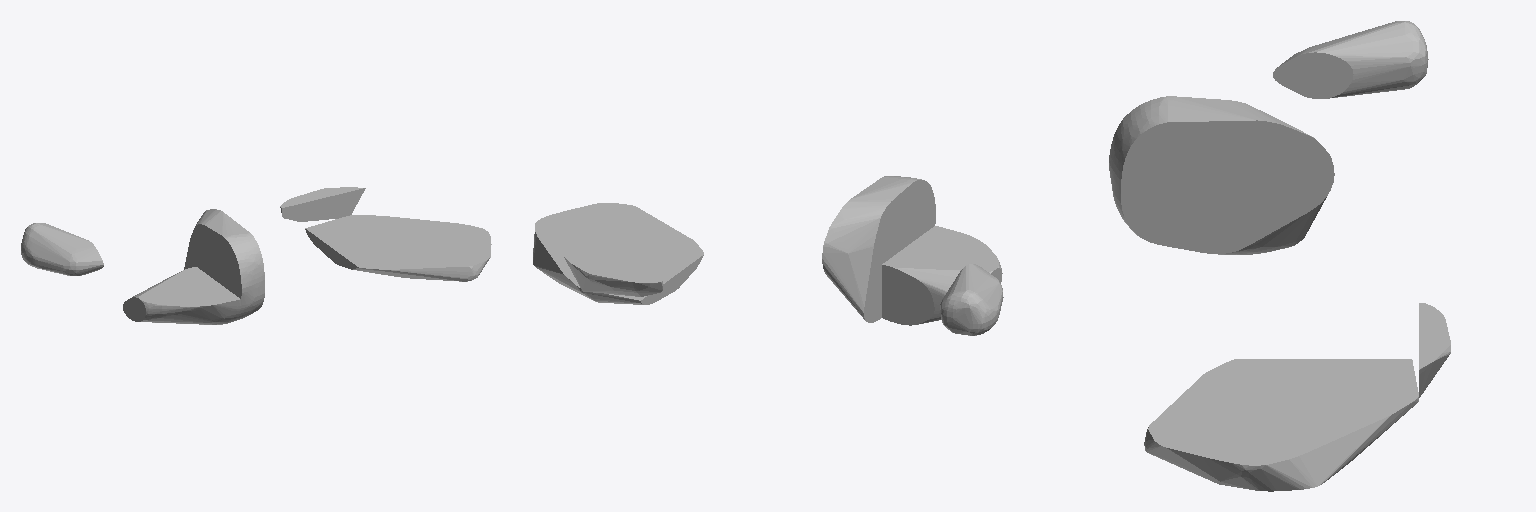
The robot description file, URDF, robot "root":
<robot name="root">
  <link name="link_coacd_convex_piece_0">
    <inertial>
      <origin xyz="0 0 0" rpy="0 0 0"/>
      <inertia ixx="1.71E-09" ixy="-5.69E-10" ixz="-1.56E-10" iyy="9.73E-10" iyz="1.53E-10" izz="8.46E-10"/>
    </inertial>
    <visual>
      <origin xyz="0 0 0" rpy="0 0 0"/>
      <geometry>
        <mesh filename="coacd_convex_piece_0.obj" scale="1.0000E+00 1.0000E+00 1.0000E+00"/>
      </geometry>
      <material name="">
        <color rgba="7.50E-01 7.50E-01 7.50E-01 1"/>
      </material>
    </visual>
    <collision>
      <origin xyz="0 0 0" rpy="0 0 0"/>
      <geometry>
        <mesh filename="coacd_convex_piece_0.obj" scale="1.0000E+00 1.0000E+00 1.0000E+00"/>
      </geometry>
    </collision>
  </link>
  <link name="link_coacd_convex_piece_1">
    <inertial>
      <origin xyz="0 0 0" rpy="0 0 0"/>
      <inertia ixx="3.62E-10" ixy="-2.58E-10" ixz="9.83E-11" iyy="1.62E-12" iyz="1.55E-10" izz="1.83E-10"/>
    </inertial>
    <visual>
      <origin xyz="0 0 0" rpy="0 0 0"/>
      <geometry>
        <mesh filename="coacd_convex_piece_1.obj" scale="1.0000E+00 1.0000E+00 1.0000E+00"/>
      </geometry>
      <material name="">
        <color rgba="7.50E-01 7.50E-01 7.50E-01 1"/>
      </material>
    </visual>
    <collision>
      <origin xyz="0 0 0" rpy="0 0 0"/>
      <geometry>
        <mesh filename="coacd_convex_piece_1.obj" scale="1.0000E+00 1.0000E+00 1.0000E+00"/>
      </geometry>
    </collision>
  </link>
  <joint name="link_coacd_convex_piece_1_joint" type="fixed">
    <origin xyz="0 0 0" rpy="0 0 0"/>
    <parent link="link_coacd_convex_piece_0"/>
    <child link="link_coacd_convex_piece_1"/>
  </joint>
  <link name="link_coacd_convex_piece_2">
    <inertial>
      <origin xyz="0 0 0" rpy="0 0 0"/>
      <inertia ixx="1.04E-09" ixy="-7.60E-10" ixz="-3.28E-10" iyy="6.00E-10" iyz="-5.47E-10" izz="1.03E-09"/>
    </inertial>
    <visual>
      <origin xyz="0 0 0" rpy="0 0 0"/>
      <geometry>
        <mesh filename="coacd_convex_piece_2.obj" scale="1.0000E+00 1.0000E+00 1.0000E+00"/>
      </geometry>
      <material name="">
        <color rgba="7.50E-01 7.50E-01 7.50E-01 1"/>
      </material>
    </visual>
    <collision>
      <origin xyz="0 0 0" rpy="0 0 0"/>
      <geometry>
        <mesh filename="coacd_convex_piece_2.obj" scale="1.0000E+00 1.0000E+00 1.0000E+00"/>
      </geometry>
    </collision>
  </link>
  <joint name="link_coacd_convex_piece_2_joint" type="fixed">
    <origin xyz="0 0 0" rpy="0 0 0"/>
    <parent link="link_coacd_convex_piece_1"/>
    <child link="link_coacd_convex_piece_2"/>
  </joint>
  <link name="link_coacd_convex_piece_3">
    <inertial>
      <origin xyz="0 0 0" rpy="0 0 0"/>
      <inertia ixx="1.06E-11" ixy="-4.27E-10" ixz="-2.66E-10" iyy="1.37E-09" iyz="-9.32E-11" izz="1.26E-09"/>
    </inertial>
    <visual>
      <origin xyz="0 0 0" rpy="0 0 0"/>
      <geometry>
        <mesh filename="coacd_convex_piece_3.obj" scale="1.0000E+00 1.0000E+00 1.0000E+00"/>
      </geometry>
      <material name="">
        <color rgba="7.50E-01 7.50E-01 7.50E-01 1"/>
      </material>
    </visual>
    <collision>
      <origin xyz="0 0 0" rpy="0 0 0"/>
      <geometry>
        <mesh filename="coacd_convex_piece_3.obj" scale="1.0000E+00 1.0000E+00 1.0000E+00"/>
      </geometry>
    </collision>
  </link>
  <joint name="link_coacd_convex_piece_3_joint" type="fixed">
    <origin xyz="0 0 0" rpy="0 0 0"/>
    <parent link="link_coacd_convex_piece_2"/>
    <child link="link_coacd_convex_piece_3"/>
  </joint>
  <link name="link_coacd_convex_piece_4">
    <inertial>
      <origin xyz="0 0 0" rpy="0 0 0"/>
      <inertia ixx="1.64E-09" ixy="-1.70E-09" ixz="4.95E-10" iyy="1.49E-10" iyz="2.71E-10" izz="1.07E-09"/>
    </inertial>
    <visual>
      <origin xyz="0 0 0" rpy="0 0 0"/>
      <geometry>
        <mesh filename="coacd_convex_piece_4.obj" scale="1.0000E+00 1.0000E+00 1.0000E+00"/>
      </geometry>
      <material name="">
        <color rgba="7.50E-01 7.50E-01 7.50E-01 1"/>
      </material>
    </visual>
    <collision>
      <origin xyz="0 0 0" rpy="0 0 0"/>
      <geometry>
        <mesh filename="coacd_convex_piece_4.obj" scale="1.0000E+00 1.0000E+00 1.0000E+00"/>
      </geometry>
    </collision>
  </link>
  <joint name="link_coacd_convex_piece_4_joint" type="fixed">
    <origin xyz="0 0 0" rpy="0 0 0"/>
    <parent link="link_coacd_convex_piece_3"/>
    <child link="link_coacd_convex_piece_4"/>
  </joint>
  <link name="link_coacd_convex_piece_5">
    <inertial>
      <origin xyz="0 0 0" rpy="0 0 0"/>
      <inertia ixx="1.27E-09" ixy="-1.65E-09" ixz="2.69E-10" iyy="1.03E-09" iyz="9.28E-11" izz="2.07E-09"/>
    </inertial>
    <visual>
      <origin xyz="0 0 0" rpy="0 0 0"/>
      <geometry>
        <mesh filename="coacd_convex_piece_5.obj" scale="1.0000E+00 1.0000E+00 1.0000E+00"/>
      </geometry>
      <material name="">
        <color rgba="7.50E-01 7.50E-01 7.50E-01 1"/>
      </material>
    </visual>
    <collision>
      <origin xyz="0 0 0" rpy="0 0 0"/>
      <geometry>
        <mesh filename="coacd_convex_piece_5.obj" scale="1.0000E+00 1.0000E+00 1.0000E+00"/>
      </geometry>
    </collision>
  </link>
  <joint name="link_coacd_convex_piece_5_joint" type="fixed">
    <origin xyz="0 0 0" rpy="0 0 0"/>
    <parent link="link_coacd_convex_piece_4"/>
    <child link="link_coacd_convex_piece_5"/>
  </joint>
  <link name="link_coacd_convex_piece_6">
    <inertial>
      <origin xyz="0 0 0" rpy="0 0 0"/>
      <inertia ixx="2.30E-10" ixy="-6.17E-10" ixz="-2.02E-10" iyy="7.04E-10" iyz="-2.15E-10" izz="6.57E-10"/>
    </inertial>
    <visual>
      <origin xyz="0 0 0" rpy="0 0 0"/>
      <geometry>
        <mesh filename="coacd_convex_piece_6.obj" scale="1.0000E+00 1.0000E+00 1.0000E+00"/>
      </geometry>
      <material name="">
        <color rgba="7.50E-01 7.50E-01 7.50E-01 1"/>
      </material>
    </visual>
    <collision>
      <origin xyz="0 0 0" rpy="0 0 0"/>
      <geometry>
        <mesh filename="coacd_convex_piece_6.obj" scale="1.0000E+00 1.0000E+00 1.0000E+00"/>
      </geometry>
    </collision>
  </link>
  <joint name="link_coacd_convex_piece_6_joint" type="fixed">
    <origin xyz="0 0 0" rpy="0 0 0"/>
    <parent link="link_coacd_convex_piece_5"/>
    <child link="link_coacd_convex_piece_6"/>
  </joint>
  <link name="link_coacd_convex_piece_7">
    <inertial>
      <origin xyz="0 0 0" rpy="0 0 0"/>
      <inertia ixx="4.58E-11" ixy="1.11E-10" ixz="-1.84E-10" iyy="7.13E-10" iyz="3.32E-11" izz="6.50E-10"/>
    </inertial>
    <visual>
      <origin xyz="0 0 0" rpy="0 0 0"/>
      <geometry>
        <mesh filename="coacd_convex_piece_7.obj" scale="1.0000E+00 1.0000E+00 1.0000E+00"/>
      </geometry>
      <material name="">
        <color rgba="7.50E-01 7.50E-01 7.50E-01 1"/>
      </material>
    </visual>
    <collision>
      <origin xyz="0 0 0" rpy="0 0 0"/>
      <geometry>
        <mesh filename="coacd_convex_piece_7.obj" scale="1.0000E+00 1.0000E+00 1.0000E+00"/>
      </geometry>
    </collision>
  </link>
  <joint name="link_coacd_convex_piece_7_joint" type="fixed">
    <origin xyz="0 0 0" rpy="0 0 0"/>
    <parent link="link_coacd_convex_piece_6"/>
    <child link="link_coacd_convex_piece_7"/>
  </joint>
  <link name="link_coacd_convex_piece_8">
    <inertial>
      <origin xyz="0 0 0" rpy="0 0 0"/>
      <inertia ixx="-3.81E-11" ixy="-2.73E-11" ixz="3.47E-10" iyy="2.72E-09" iyz="-3.72E-11" izz="2.62E-09"/>
    </inertial>
    <visual>
      <origin xyz="0 0 0" rpy="0 0 0"/>
      <geometry>
        <mesh filename="coacd_convex_piece_8.obj" scale="1.0000E+00 1.0000E+00 1.0000E+00"/>
      </geometry>
      <material name="">
        <color rgba="7.50E-01 7.50E-01 7.50E-01 1"/>
      </material>
    </visual>
    <collision>
      <origin xyz="0 0 0" rpy="0 0 0"/>
      <geometry>
        <mesh filename="coacd_convex_piece_8.obj" scale="1.0000E+00 1.0000E+00 1.0000E+00"/>
      </geometry>
    </collision>
  </link>
  <joint name="link_coacd_convex_piece_8_joint" type="fixed">
    <origin xyz="0 0 0" rpy="0 0 0"/>
    <parent link="link_coacd_convex_piece_7"/>
    <child link="link_coacd_convex_piece_8"/>
  </joint>
  <link name="link_coacd_convex_piece_9">
    <inertial>
      <origin xyz="0 0 0" rpy="0 0 0"/>
      <inertia ixx="1.59E-09" ixy="-3.25E-09" ixz="1.21E-09" iyy="5.18E-09" iyz="4.45E-10" izz="6.30E-09"/>
    </inertial>
    <visual>
      <origin xyz="0 0 0" rpy="0 0 0"/>
      <geometry>
        <mesh filename="coacd_convex_piece_9.obj" scale="1.0000E+00 1.0000E+00 1.0000E+00"/>
      </geometry>
      <material name="">
        <color rgba="7.50E-01 7.50E-01 7.50E-01 1"/>
      </material>
    </visual>
    <collision>
      <origin xyz="0 0 0" rpy="0 0 0"/>
      <geometry>
        <mesh filename="coacd_convex_piece_9.obj" scale="1.0000E+00 1.0000E+00 1.0000E+00"/>
      </geometry>
    </collision>
  </link>
  <joint name="link_coacd_convex_piece_9_joint" type="fixed">
    <origin xyz="0 0 0" rpy="0 0 0"/>
    <parent link="link_coacd_convex_piece_8"/>
    <child link="link_coacd_convex_piece_9"/>
  </joint>
  <link name="link_coacd_convex_piece_10">
    <inertial>
      <origin xyz="0 0 0" rpy="0 0 0"/>
      <inertia ixx="3.89E-09" ixy="6.35E-09" ixz="-1.86E-09" iyy="2.68E-08" iyz="2.05E-10" izz="2.84E-08"/>
    </inertial>
    <visual>
      <origin xyz="0 0 0" rpy="0 0 0"/>
      <geometry>
        <mesh filename="coacd_convex_piece_10.obj" scale="1.0000E+00 1.0000E+00 1.0000E+00"/>
      </geometry>
      <material name="">
        <color rgba="7.50E-01 7.50E-01 7.50E-01 1"/>
      </material>
    </visual>
    <collision>
      <origin xyz="0 0 0" rpy="0 0 0"/>
      <geometry>
        <mesh filename="coacd_convex_piece_10.obj" scale="1.0000E+00 1.0000E+00 1.0000E+00"/>
      </geometry>
    </collision>
  </link>
  <joint name="link_coacd_convex_piece_10_joint" type="fixed">
    <origin xyz="0 0 0" rpy="0 0 0"/>
    <parent link="link_coacd_convex_piece_9"/>
    <child link="link_coacd_convex_piece_10"/>
  </joint>
  <link name="link_coacd_convex_piece_11">
    <inertial>
      <origin xyz="0 0 0" rpy="0 0 0"/>
      <inertia ixx="9.98E-10" ixy="-1.91E-09" ixz="-1.71E-10" iyy="2.24E-09" iyz="-2.26E-10" izz="3.19E-09"/>
    </inertial>
    <visual>
      <origin xyz="0 0 0" rpy="0 0 0"/>
      <geometry>
        <mesh filename="coacd_convex_piece_11.obj" scale="1.0000E+00 1.0000E+00 1.0000E+00"/>
      </geometry>
      <material name="">
        <color rgba="7.50E-01 7.50E-01 7.50E-01 1"/>
      </material>
    </visual>
    <collision>
      <origin xyz="0 0 0" rpy="0 0 0"/>
      <geometry>
        <mesh filename="coacd_convex_piece_11.obj" scale="1.0000E+00 1.0000E+00 1.0000E+00"/>
      </geometry>
    </collision>
  </link>
  <joint name="link_coacd_convex_piece_11_joint" type="fixed">
    <origin xyz="0 0 0" rpy="0 0 0"/>
    <parent link="link_coacd_convex_piece_10"/>
    <child link="link_coacd_convex_piece_11"/>
  </joint>
  <link name="link_coacd_convex_piece_12">
    <inertial>
      <origin xyz="0 0 0" rpy="0 0 0"/>
      <inertia ixx="4.36E-11" ixy="-2.84E-10" ixz="-9.86E-11" iyy="9.36E-10" iyz="-3.45E-11" izz="9.56E-10"/>
    </inertial>
    <visual>
      <origin xyz="0 0 0" rpy="0 0 0"/>
      <geometry>
        <mesh filename="coacd_convex_piece_12.obj" scale="1.0000E+00 1.0000E+00 1.0000E+00"/>
      </geometry>
      <material name="">
        <color rgba="7.50E-01 7.50E-01 7.50E-01 1"/>
      </material>
    </visual>
    <collision>
      <origin xyz="0 0 0" rpy="0 0 0"/>
      <geometry>
        <mesh filename="coacd_convex_piece_12.obj" scale="1.0000E+00 1.0000E+00 1.0000E+00"/>
      </geometry>
    </collision>
  </link>
  <joint name="link_coacd_convex_piece_12_joint" type="fixed">
    <origin xyz="0 0 0" rpy="0 0 0"/>
    <parent link="link_coacd_convex_piece_11"/>
    <child link="link_coacd_convex_piece_12"/>
  </joint>
  <link name="link_coacd_convex_piece_13">
    <inertial>
      <origin xyz="0 0 0" rpy="0 0 0"/>
      <inertia ixx="6.65E-12" ixy="-7.67E-11" ixz="2.35E-11" iyy="1.05E-10" iyz="2.12E-12" izz="1.09E-10"/>
    </inertial>
    <visual>
      <origin xyz="0 0 0" rpy="0 0 0"/>
      <geometry>
        <mesh filename="coacd_convex_piece_13.obj" scale="1.0000E+00 1.0000E+00 1.0000E+00"/>
      </geometry>
      <material name="">
        <color rgba="7.50E-01 7.50E-01 7.50E-01 1"/>
      </material>
    </visual>
    <collision>
      <origin xyz="0 0 0" rpy="0 0 0"/>
      <geometry>
        <mesh filename="coacd_convex_piece_13.obj" scale="1.0000E+00 1.0000E+00 1.0000E+00"/>
      </geometry>
    </collision>
  </link>
  <joint name="link_coacd_convex_piece_13_joint" type="fixed">
    <origin xyz="0 0 0" rpy="0 0 0"/>
    <parent link="link_coacd_convex_piece_12"/>
    <child link="link_coacd_convex_piece_13"/>
  </joint>
  <link name="link_coacd_convex_piece_14">
    <inertial>
      <origin xyz="0 0 0" rpy="0 0 0"/>
      <inertia ixx="2.26E-11" ixy="1.42E-11" ixz="-1.52E-10" iyy="6.08E-10" iyz="5.65E-12" izz="5.45E-10"/>
    </inertial>
    <visual>
      <origin xyz="0 0 0" rpy="0 0 0"/>
      <geometry>
        <mesh filename="coacd_convex_piece_14.obj" scale="1.0000E+00 1.0000E+00 1.0000E+00"/>
      </geometry>
      <material name="">
        <color rgba="7.50E-01 7.50E-01 7.50E-01 1"/>
      </material>
    </visual>
    <collision>
      <origin xyz="0 0 0" rpy="0 0 0"/>
      <geometry>
        <mesh filename="coacd_convex_piece_14.obj" scale="1.0000E+00 1.0000E+00 1.0000E+00"/>
      </geometry>
    </collision>
  </link>
  <joint name="link_coacd_convex_piece_14_joint" type="fixed">
    <origin xyz="0 0 0" rpy="0 0 0"/>
    <parent link="link_coacd_convex_piece_13"/>
    <child link="link_coacd_convex_piece_14"/>
  </joint>
  <link name="link_coacd_convex_piece_15">
    <inertial>
      <origin xyz="0 0 0" rpy="0 0 0"/>
      <inertia ixx="4.15E-10" ixy="5.02E-10" ixz="1.10E-09" iyy="3.10E-09" iyz="-2.90E-10" izz="2.77E-09"/>
    </inertial>
    <visual>
      <origin xyz="0 0 0" rpy="0 0 0"/>
      <geometry>
        <mesh filename="coacd_convex_piece_15.obj" scale="1.0000E+00 1.0000E+00 1.0000E+00"/>
      </geometry>
      <material name="">
        <color rgba="7.50E-01 7.50E-01 7.50E-01 1"/>
      </material>
    </visual>
    <collision>
      <origin xyz="0 0 0" rpy="0 0 0"/>
      <geometry>
        <mesh filename="coacd_convex_piece_15.obj" scale="1.0000E+00 1.0000E+00 1.0000E+00"/>
      </geometry>
    </collision>
  </link>
  <joint name="link_coacd_convex_piece_15_joint" type="fixed">
    <origin xyz="0 0 0" rpy="0 0 0"/>
    <parent link="link_coacd_convex_piece_14"/>
    <child link="link_coacd_convex_piece_15"/>
  </joint>
  <link name="link_coacd_convex_piece_16">
    <inertial>
      <origin xyz="0 0 0" rpy="0 0 0"/>
      <inertia ixx="6.18E-10" ixy="1.03E-09" ixz="1.40E-09" iyy="4.92E-09" iyz="-4.55E-10" izz="4.88E-09"/>
    </inertial>
    <visual>
      <origin xyz="0 0 0" rpy="0 0 0"/>
      <geometry>
        <mesh filename="coacd_convex_piece_16.obj" scale="1.0000E+00 1.0000E+00 1.0000E+00"/>
      </geometry>
      <material name="">
        <color rgba="7.50E-01 7.50E-01 7.50E-01 1"/>
      </material>
    </visual>
    <collision>
      <origin xyz="0 0 0" rpy="0 0 0"/>
      <geometry>
        <mesh filename="coacd_convex_piece_16.obj" scale="1.0000E+00 1.0000E+00 1.0000E+00"/>
      </geometry>
    </collision>
  </link>
  <joint name="link_coacd_convex_piece_16_joint" type="fixed">
    <origin xyz="0 0 0" rpy="0 0 0"/>
    <parent link="link_coacd_convex_piece_15"/>
    <child link="link_coacd_convex_piece_16"/>
  </joint>
</robot>

--- Facts derived from the render (not from the file) ---
Views: 3 orthographic renders of the robot side by side, from view 1: azimuth 30°, elevation 25°; view 2: azimuth 150°, elevation 25°; view 3: azimuth 270°, elevation 25°.
Model root with 17 links and 16 joints (16 fixed), rooted at link_coacd_convex_piece_0, posed all joints at 0.
Links seen in each view (by area): view 1: link_coacd_convex_piece_16, link_coacd_convex_piece_5, link_coacd_convex_piece_11, link_coacd_convex_piece_8, link_coacd_convex_piece_13; view 2: link_coacd_convex_piece_16, link_coacd_convex_piece_5, link_coacd_convex_piece_11, link_coacd_convex_piece_8, link_coacd_convex_piece_13; view 3: link_coacd_convex_piece_5, link_coacd_convex_piece_16, link_coacd_convex_piece_8, link_coacd_convex_piece_13.
Link boxes in pixels (x1,y1,x2,y2): link_coacd_convex_piece_16: [305, 215, 491, 281]; link_coacd_convex_piece_5: [184, 209, 264, 320]; link_coacd_convex_piece_11: [123, 267, 240, 324]; link_coacd_convex_piece_8: [21, 223, 103, 275]; link_coacd_convex_piece_13: [280, 187, 365, 221]; link_coacd_convex_piece_16: [533, 203, 703, 304]; link_coacd_convex_piece_5: [822, 176, 935, 322]; link_coacd_convex_piece_11: [882, 226, 1002, 325]; link_coacd_convex_piece_8: [940, 263, 1003, 335]; link_coacd_convex_piece_13: [564, 256, 662, 296]; link_coacd_convex_piece_5: [1109, 96, 1334, 254]; link_coacd_convex_piece_16: [1144, 359, 1418, 491]; link_coacd_convex_piece_8: [1273, 21, 1428, 98]; link_coacd_convex_piece_13: [1419, 303, 1450, 397].
Size in the robot's own frame: 0.116 by 0.0497 by 0.0272 metres.
5 mesh visuals loaded from 17 distinct referenced files (5 OBJ); not drawn: 12 (reference not matched to a file when rendering).